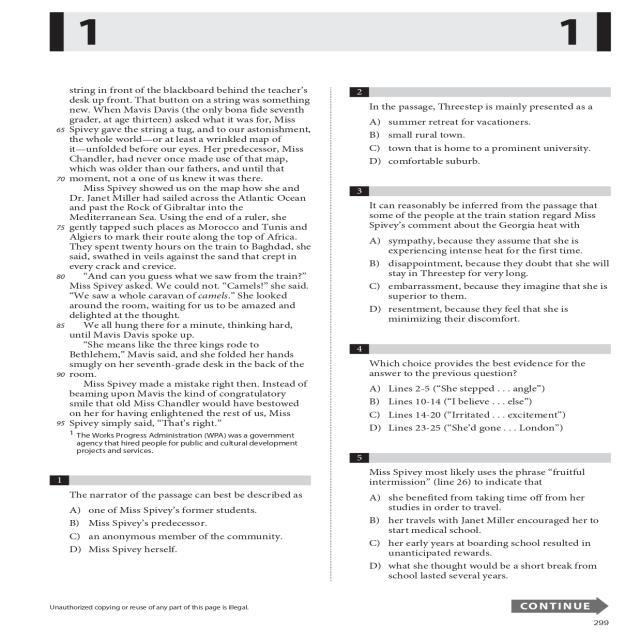Answer_Block: (336, 488, 626, 581), (336, 232, 626, 324), (52, 503, 323, 580), (336, 379, 626, 439), (336, 114, 626, 172)
Instruction: (52, 83, 323, 464)
Question_Answer_Block: (336, 184, 626, 324), (336, 452, 626, 582), (52, 473, 323, 580), (336, 340, 626, 439), (336, 84, 626, 172)
Question_Block: (336, 184, 626, 230), (336, 341, 626, 382), (336, 451, 626, 487), (336, 84, 626, 114), (52, 473, 323, 503)
Question_Paper_Area: (336, 84, 626, 581), (52, 83, 323, 580)
